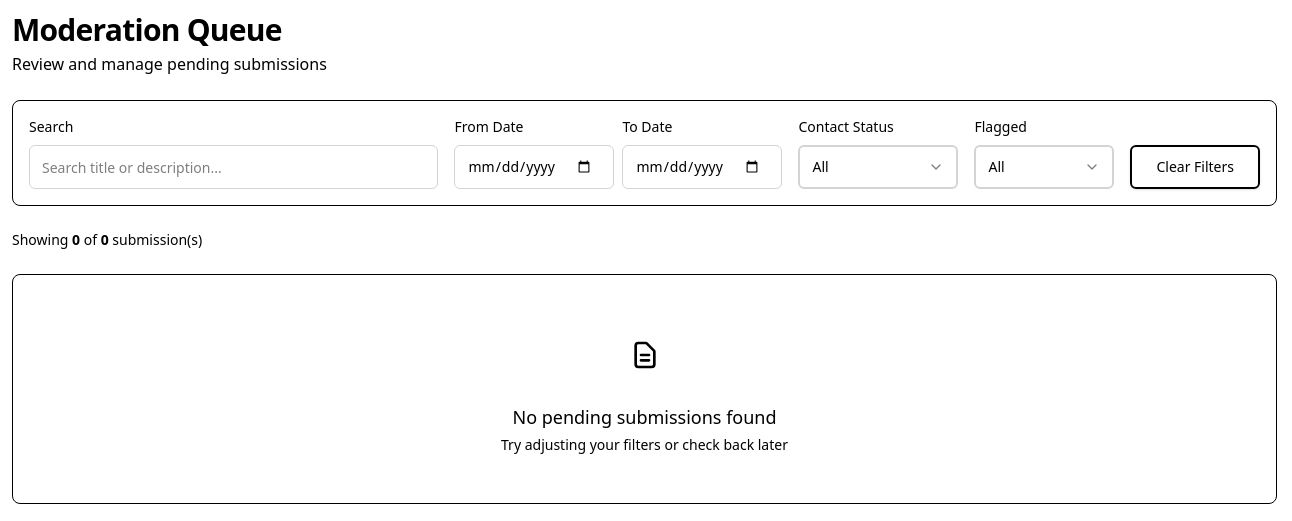
AdminModerationQueue › should clear all filters when clicking Clear Filters
# Set some filters
Type "test" into the field with placeholder "Search title or description..." at (234, 167), box [29,145,438,189]
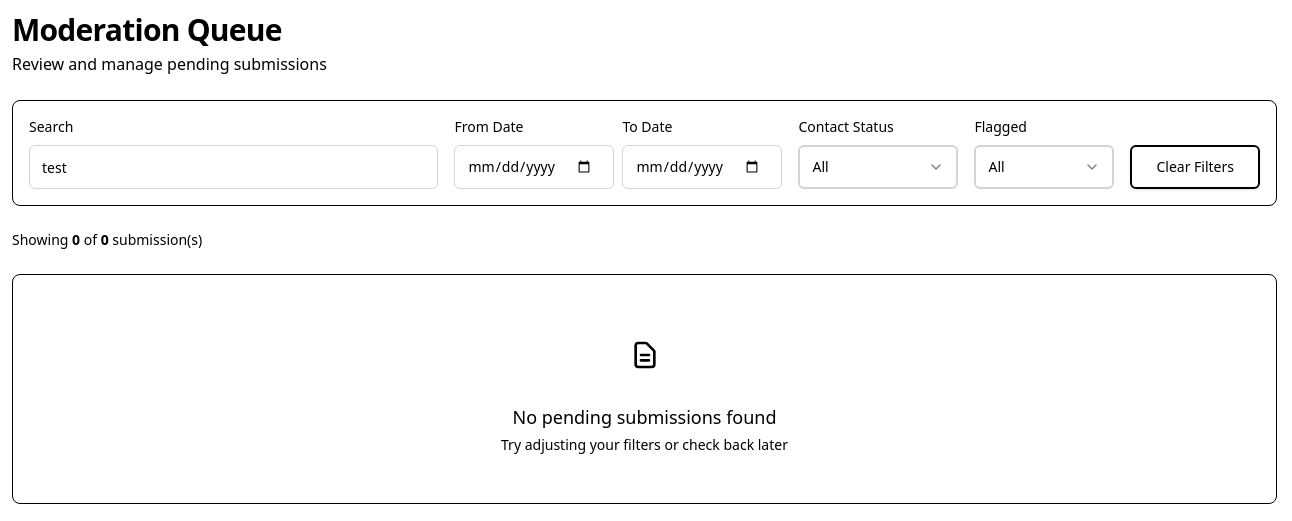
# Click clear filters
Click the button "Clear Filters" at (1195, 167), box [1130,145,1260,189]
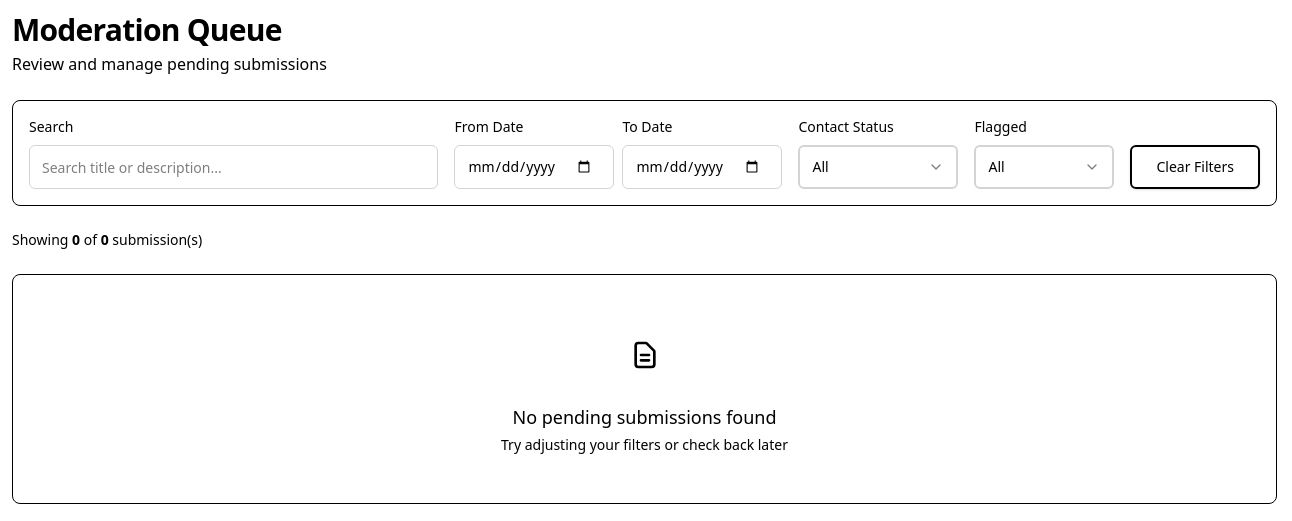
Now the field with placeholder "Search title or description..." is empty, box [29,145,438,189]
